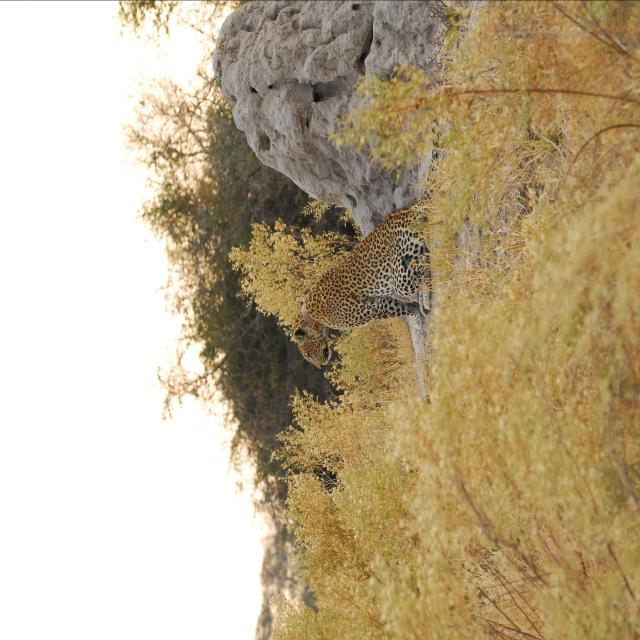Leopard: (243, 196, 529, 374)
